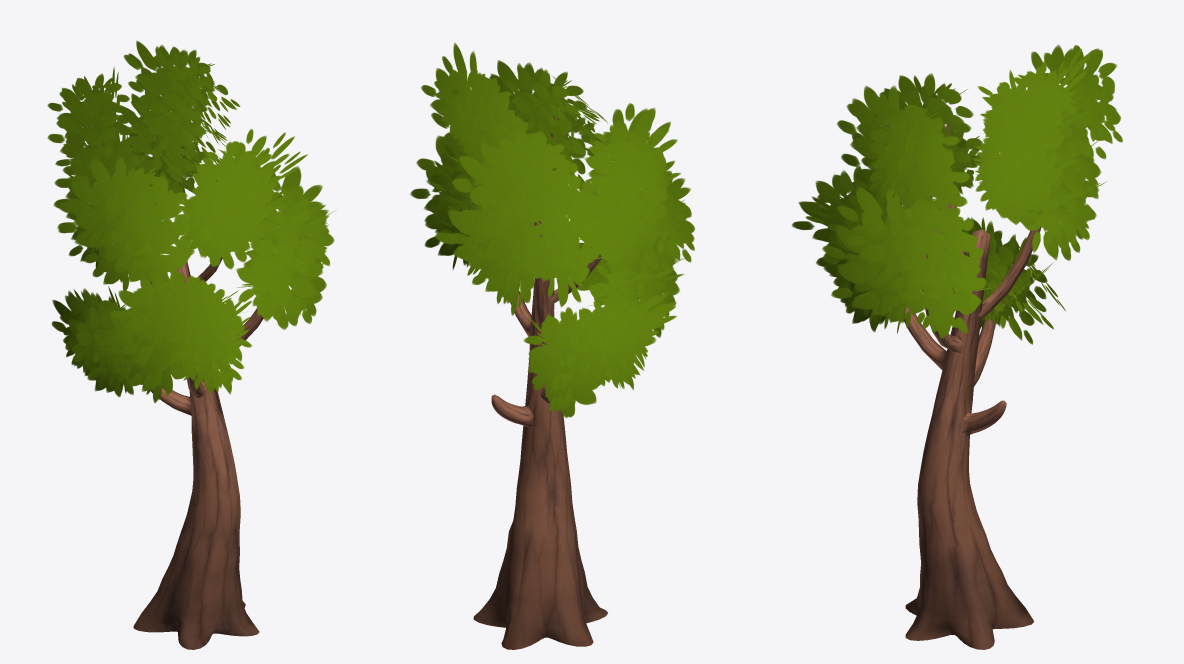
File: Tree.glb
3 views of the same model, side by side, from view 1: azimuth 30°, elevation 25°; view 2: azimuth 150°, elevation 25°; view 3: azimuth 270°, elevation 25° (orthographic). The views are drawn at different scales.
Parts seen in each view (by area): view 1: CommonTree_5; view 2: CommonTree_5; view 3: CommonTree_5.
Part boxes in pixels (bbox=[...]): CommonTree_5: bbox=[47, 40, 335, 649]; CommonTree_5: bbox=[410, 42, 694, 649]; CommonTree_5: bbox=[792, 44, 1122, 649].
Bounding box in the file's own units: 3.67 × 7.01 × 4.22.
Materials: 2 (2 with a texture image).
